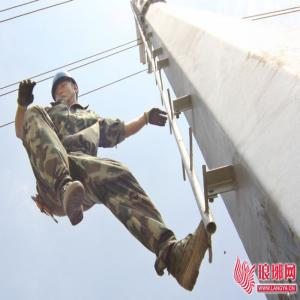blue: (52, 72, 81, 106)
